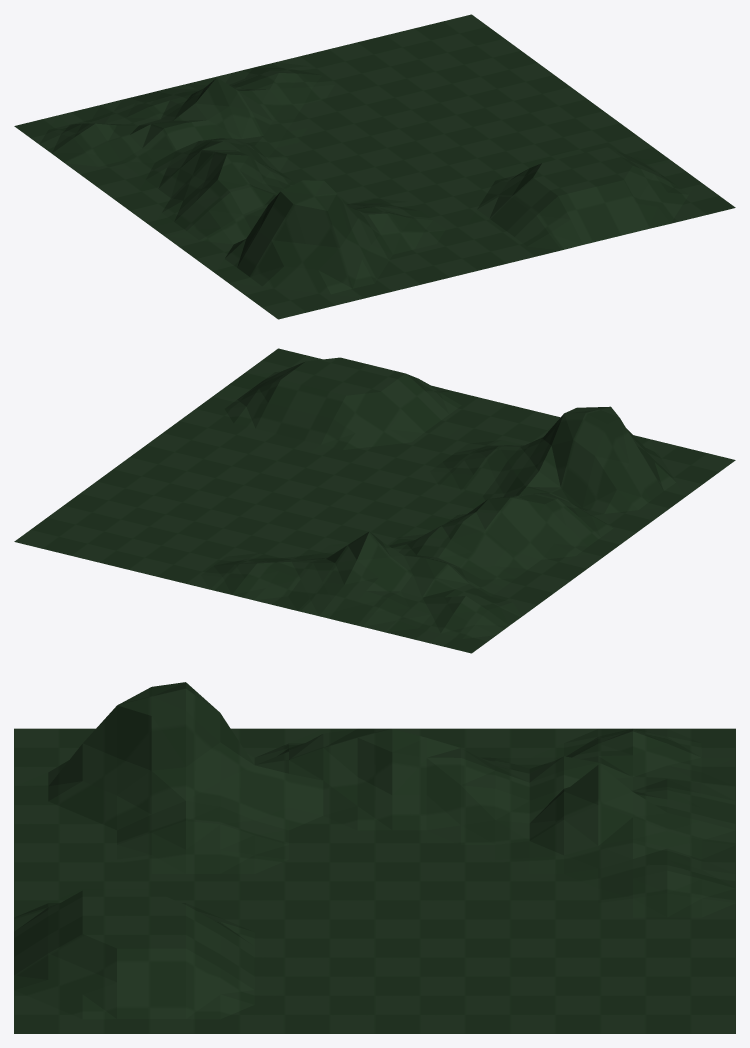
File: terrain.gltf
The picture shows the model from 3 angles, top to bottom: view 1: azimuth 30°, elevation 25°; view 2: azimuth 150°, elevation 25°; view 3: azimuth 270°, elevation 25°; orthographic projection. The views are drawn at different scales.
Visible parts, largest first — view 1: Plane; view 2: Plane; view 3: Plane.
Boxes of the visible parts, x1,y1,x2,y2 form: Plane: (14,14,735,319); Plane: (14,348,735,653); Plane: (14,682,735,1033).
Bounding box in the file's own units: 20 × 3 × 20.
